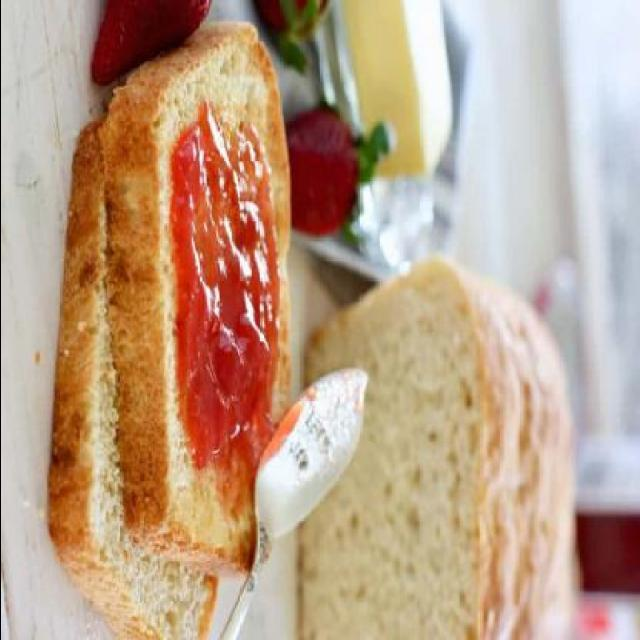Spread: (168, 124, 288, 488)
